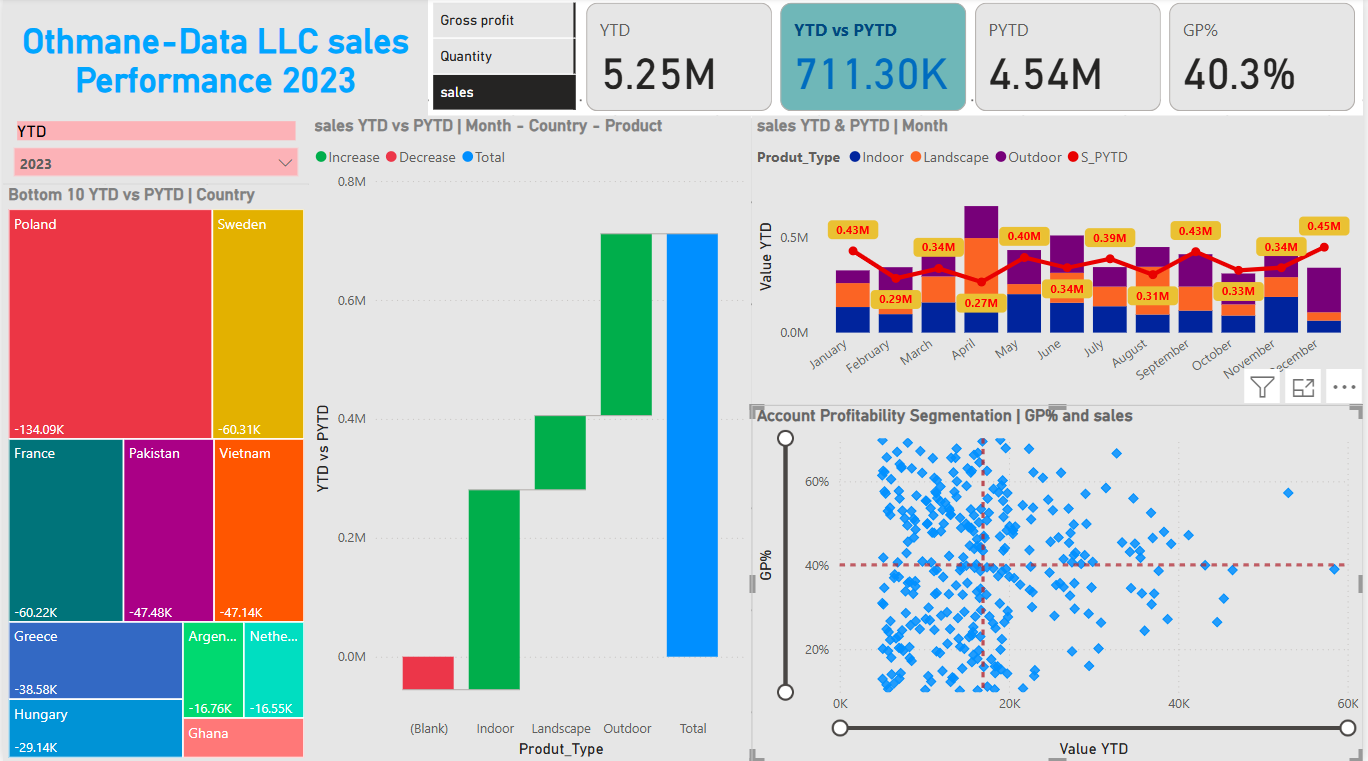

The page's visual inventory and layout, read from the dashboard file:
{"tool":"powerbi","page":{"name":"Page 1","canvas":[1280,720],"ordinal":0},"visuals":[{"type":"cardVisual","fields":{"Data":["_Measures.S_YTD","_Measures.YTD vs PYTD","_Measures.S_PYTD","_Measures.GP%"]},"box":[544,0,736,112],"z":0},{"type":"advancedSlicerVisual","fields":{"Values":["SK_Values.Values"]},"box":[400,0,144,112],"z":1000},{"type":"slicer","fields":{"Values":["Dim_date.Date.Variation.Date Hierarchy.Year"]},"box":[0,112,288,64],"z":2000},{"type":"treemap","title":"Bottom 10 YTD vs PYTD | Country","fields":{"Values":["_Measures.YTD vs PYTD"],"Group":["dim_account.country2"]},"box":[0,176,288,544],"z":3000},{"type":"waterfallChart","fields":{"Y":["_Measures.YTD vs PYTD"],"Category":["Dim_date.Date.Variation.Date Hierarchy.Month","dim_account.country2","dim_product.Produt_Type","dim_product.Product_Name"]},"box":[288,112,416,608],"z":4000},{"type":"lineStackedColumnComboChart","fields":{"Y":["_Measures.S_YTD"],"Y2":["_Measures.S_PYTD"],"Category":["Dim_date.Date.Variation.Date Hierarchy.Quarter","Dim_date.Date.Variation.Date Hierarchy.Month"],"Series":["dim_product.Produt_Type"]},"box":[704,112,576,272],"z":5000},{"type":"scatterChart","fields":{"Y":["_Measures.GP%"],"X":["_Measures.S_YTD"],"Category":["dim_account.Account"]},"box":[704,384,576,336],"z":6000},{"type":"card","fields":{"Values":["_Measures._Report Title"]},"box":[0,0,400,112],"z":7000}]}

Visuals, with their boxes in screenshot pixels (x1, y1, x2, y2), scaled from the page's 1280x720 canvas onto the 1368x761 screenshot:
cardVisual - _Measures.S_YTD x _Measures.YTD vs PYTD: (581, 0, 1367, 118)
advancedSlicerVisual - SK_Values.Values: (428, 0, 581, 118)
slicer - Dim_date.Date.Variation.Date Hierarchy.Year: (0, 118, 308, 186)
"Bottom 10 YTD vs PYTD | Country" treemap: (0, 186, 308, 760)
waterfallChart - _Measures.YTD vs PYTD x Dim_date.Date.Variation.Date Hierarchy.Month: (308, 118, 752, 760)
lineStackedColumnComboChart - _Measures.S_YTD x _Measures.S_PYTD: (752, 118, 1367, 406)
scatterChart - _Measures.GP% x _Measures.S_YTD: (752, 406, 1367, 760)
card - _Measures._Report Title: (0, 0, 428, 118)
